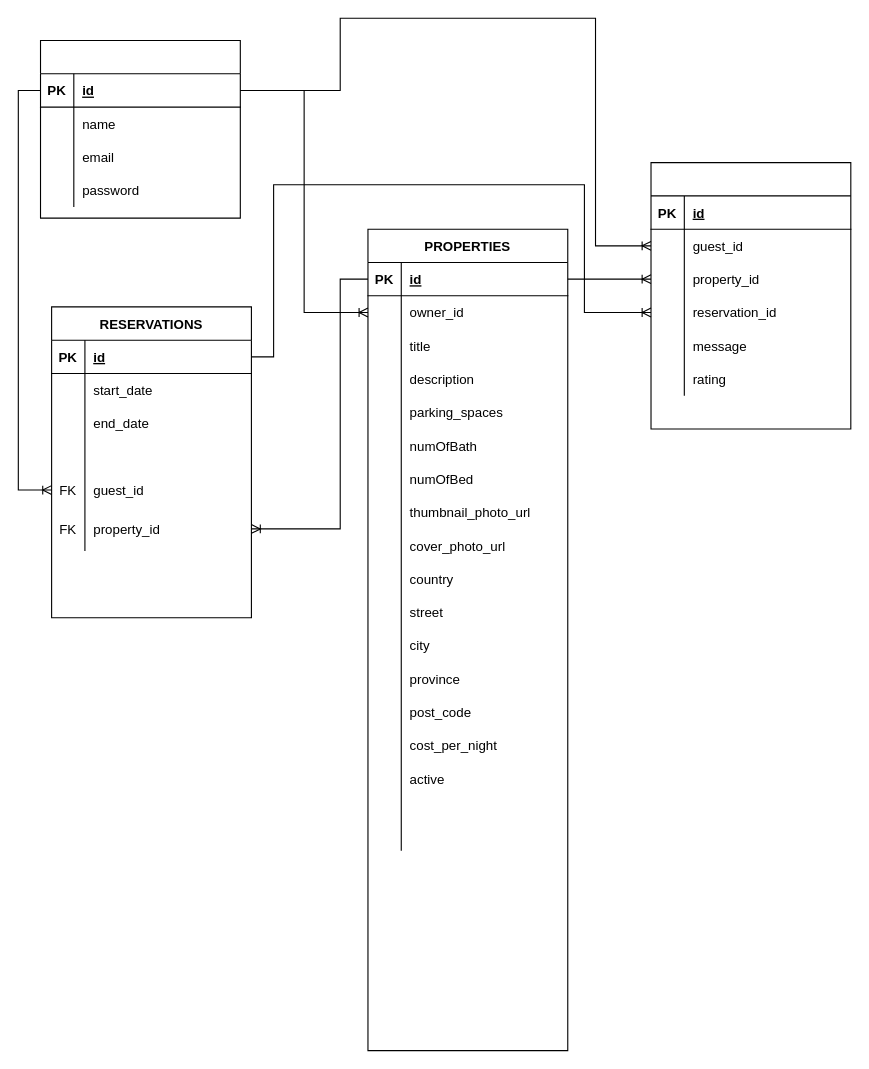
The diagram is 869 pixels wide and 1069 high, and some of its shapes have lost their labels. The shapes that lost their labels are listed below. From the top down, each one's box as (x1, y1, x2, y2) in pixels, then its label:
(39, 39, 240, 218): USERS
(650, 162, 851, 429): property_reviews
